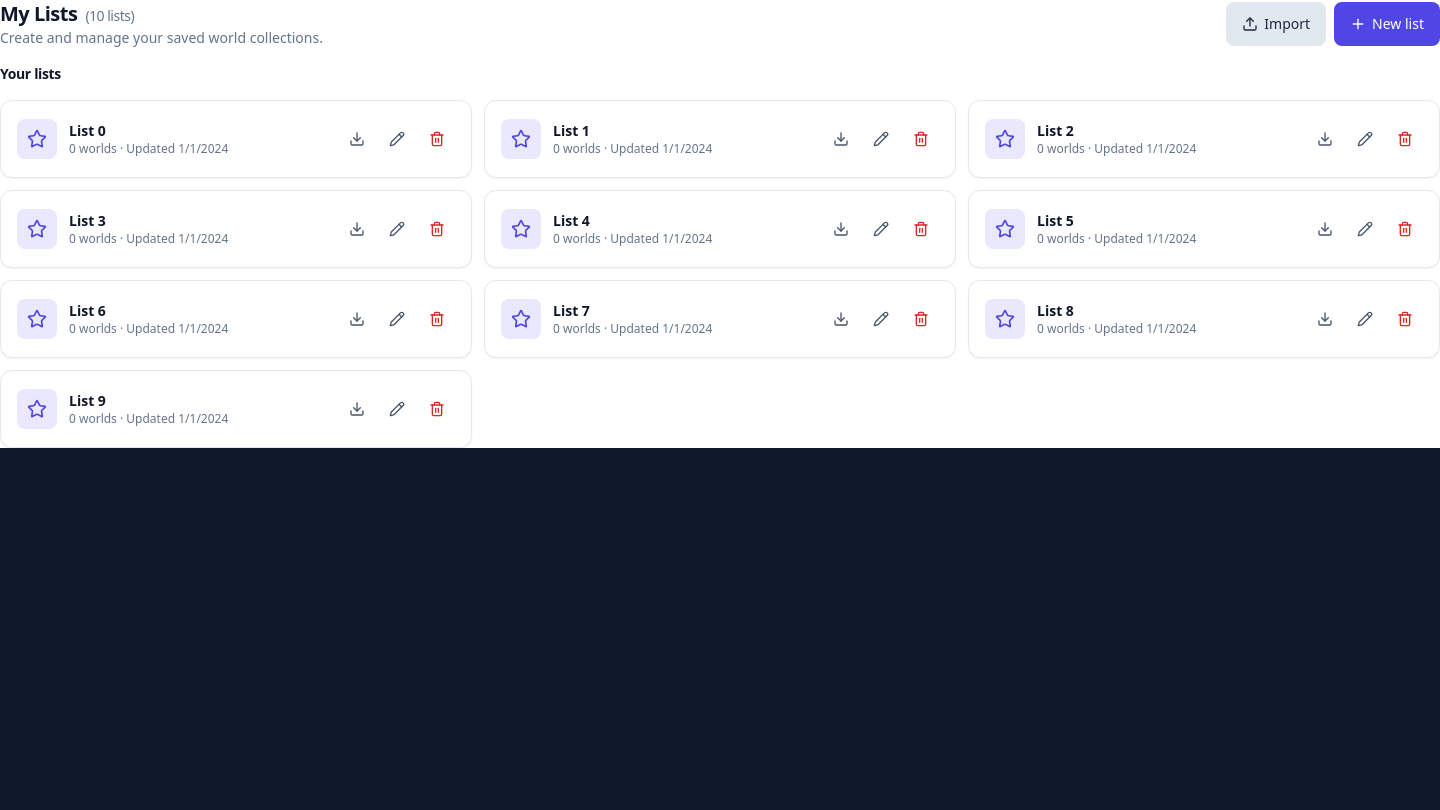
ListsPage › allows creating a list beyond the former cap
Click the button "New list". click: click(1387, 24)
box: [1334, 2, 1439, 46]
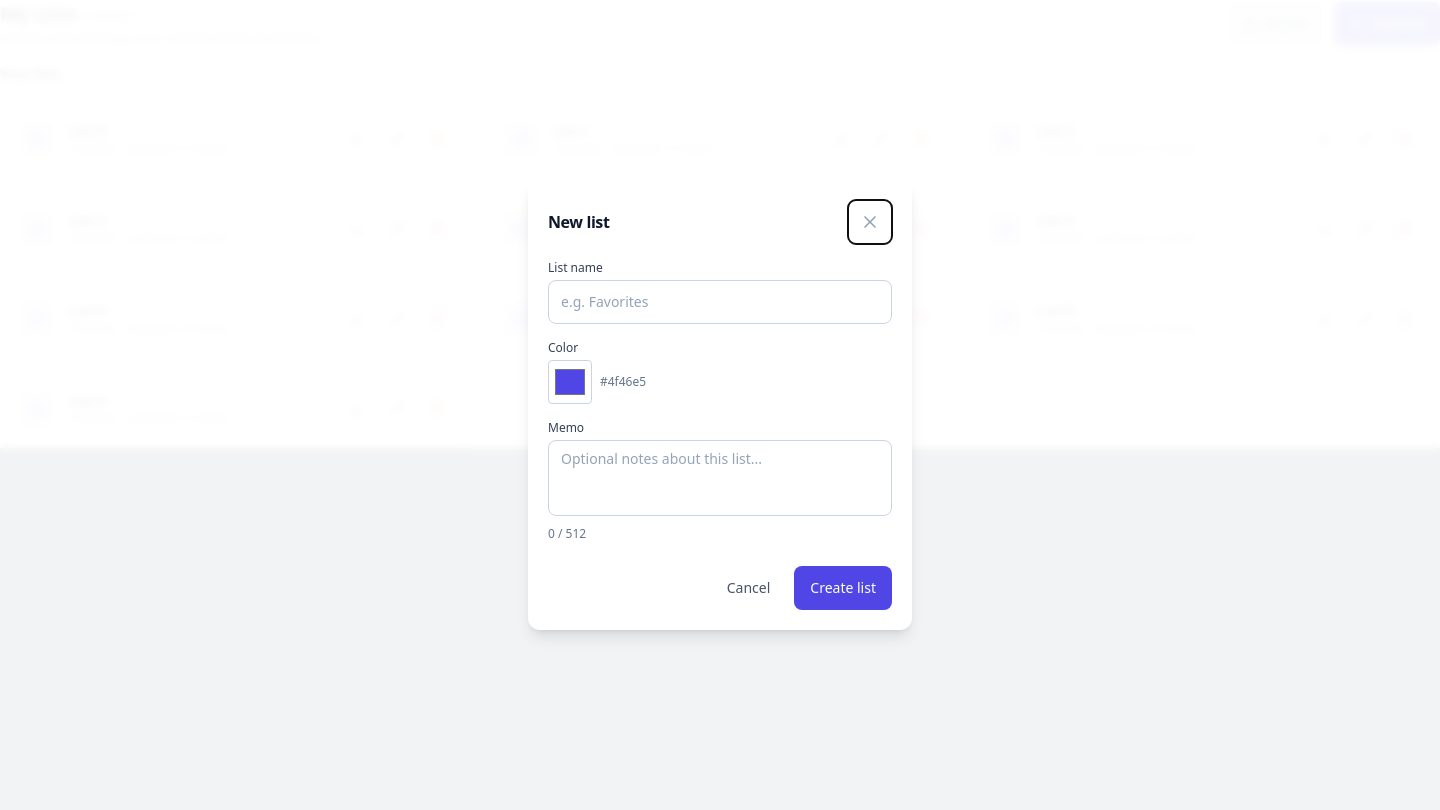
Type "Beyond" into the field labelled "List name". click: (720, 302)
box: [548, 280, 892, 324]
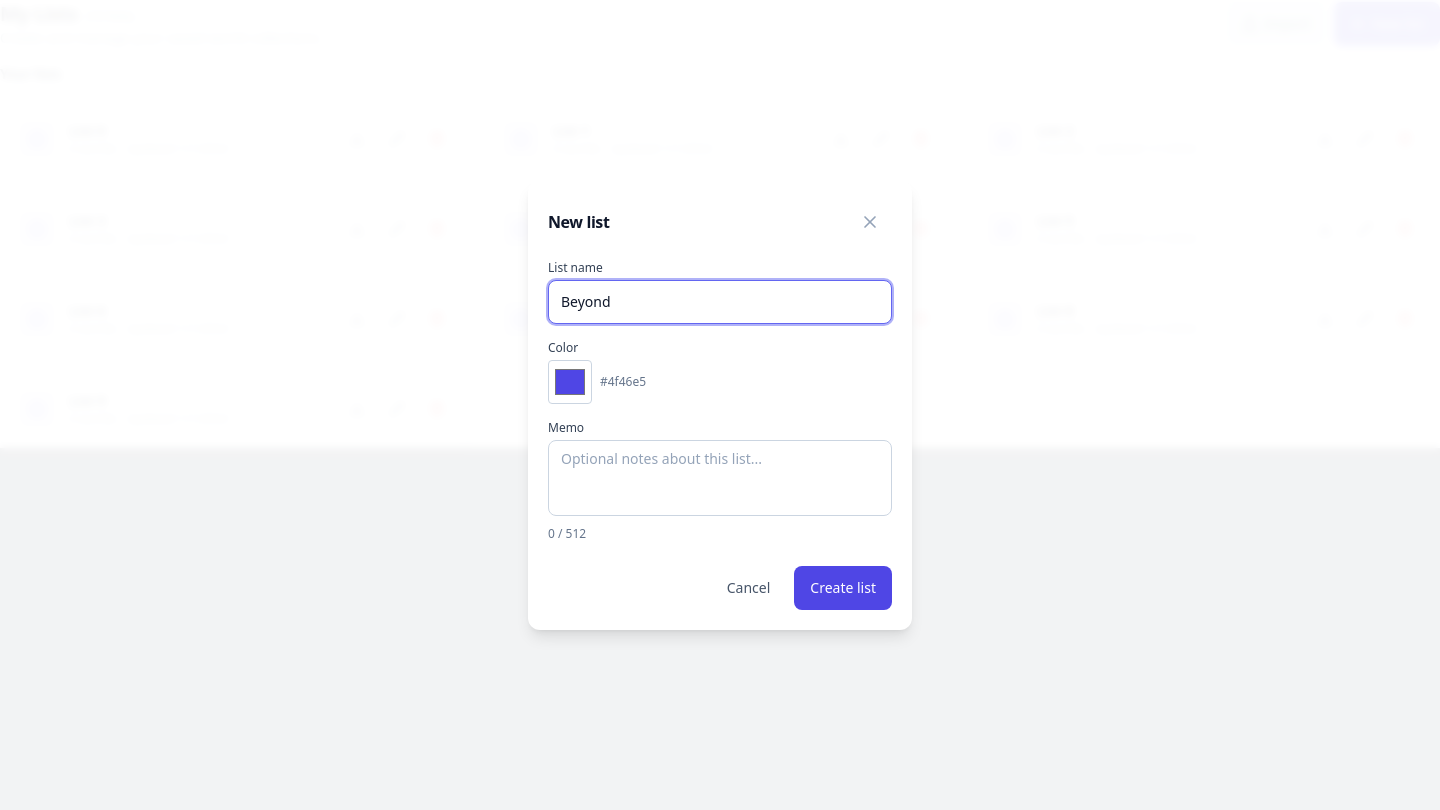
Click the button "Create list". click: click(843, 588)
box: [794, 566, 892, 610]
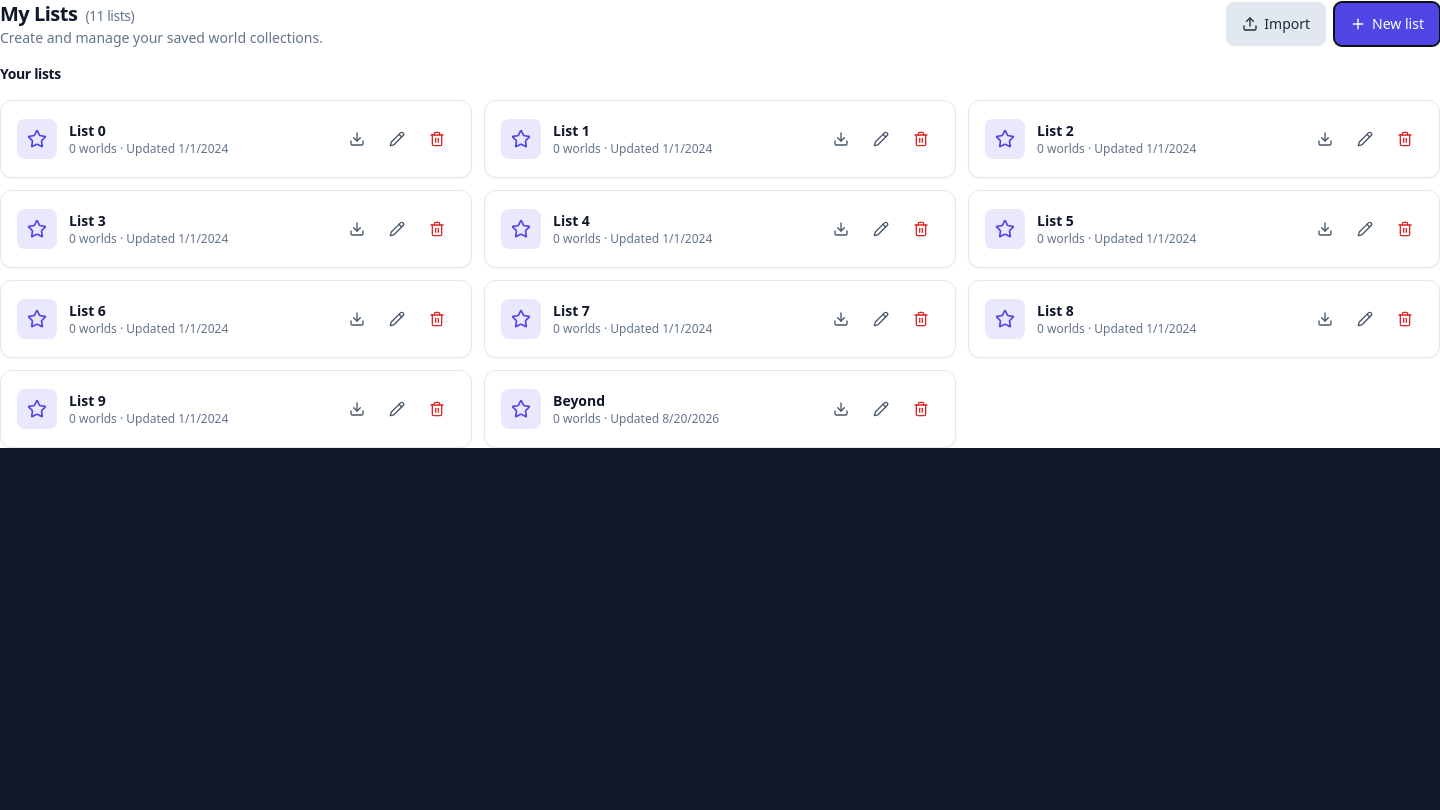
expect the text "Beyond" is shown: met, box [553, 391, 605, 410]
expect the text with test id "list-count" reads "(11 lists)": met, box [85, 6, 134, 24]
